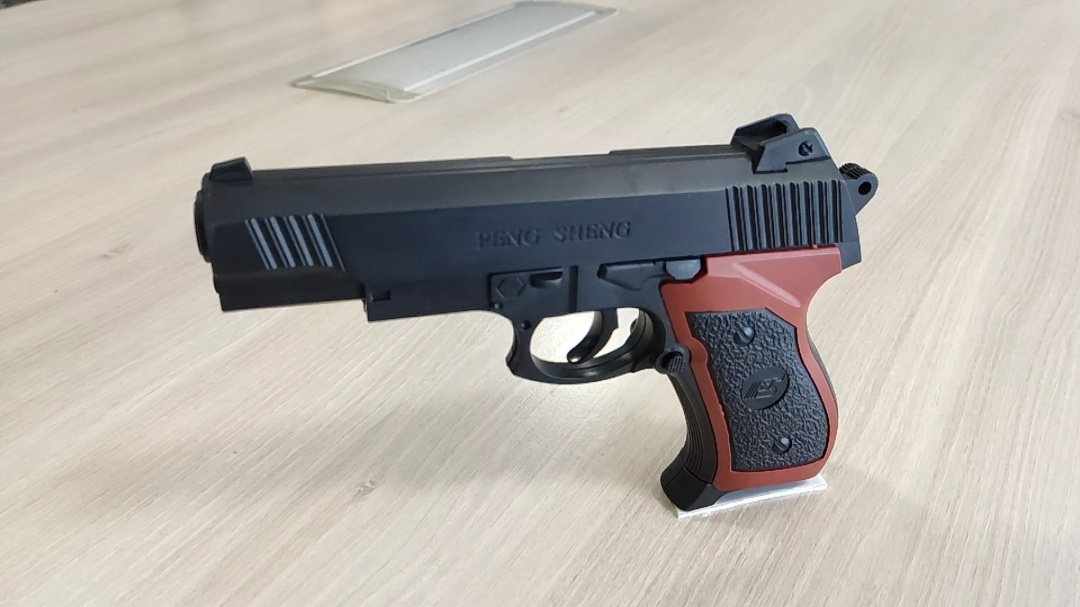gun: (192, 112, 880, 514)
